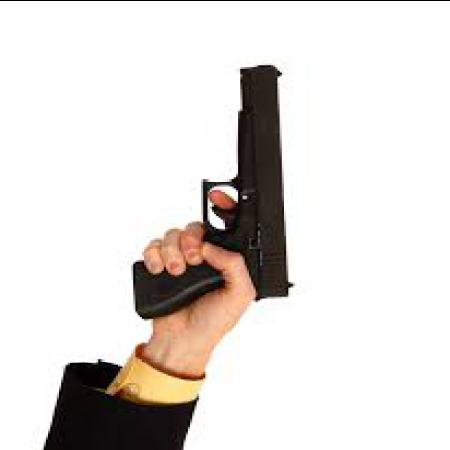Pistol: (136, 55, 298, 327)
